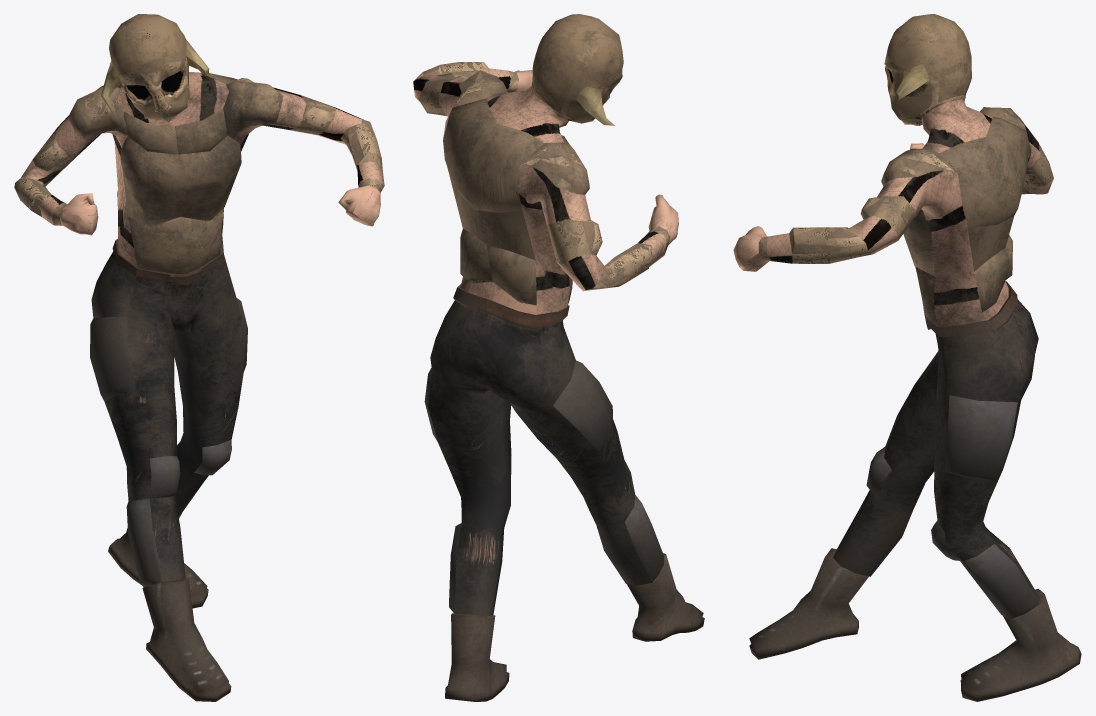
File: Anim_ataque_d3_npc1.0031.obj
3 renders of one model, left to right at view 1: azimuth 30°, elevation 25°; view 2: azimuth 150°, elevation 25°; view 3: azimuth 270°, elevation 25°, orthographic. The views are drawn at different scales.
Visible parts, largest first — view 1: NPC2; view 2: NPC2; view 3: NPC2.
Boxes of the visible parts, bbox=[...] form: NPC2: bbox=[14, 14, 384, 701]; NPC2: bbox=[413, 14, 704, 701]; NPC2: bbox=[733, 14, 1081, 701].
Size of the model in its own units: 4.32 by 9.19 by 4.5.
